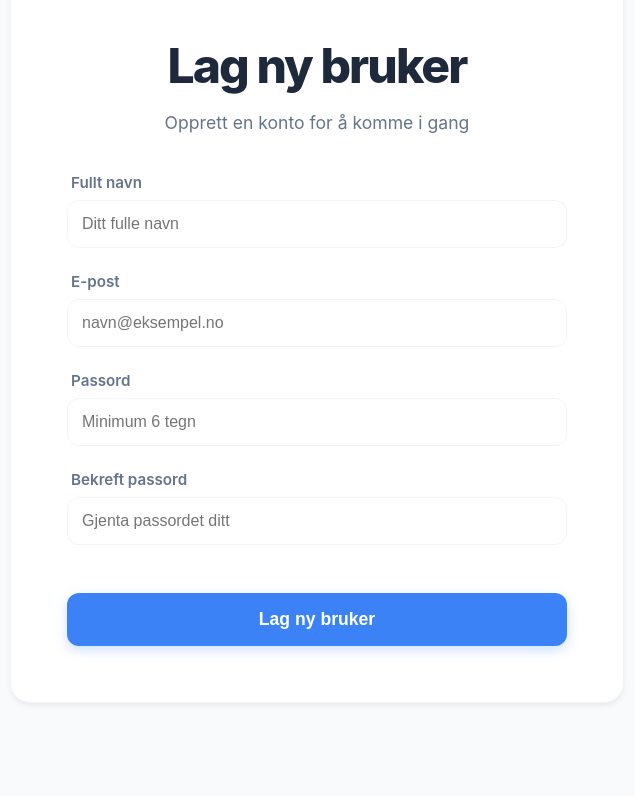
CreateUser Component › viser feilmelding hvis passordene ikke er like
Type "Test Bruker" into the field labelled "Fullt navn" at (317, 224), box top-left (67, 200), bottom-right (567, 248)
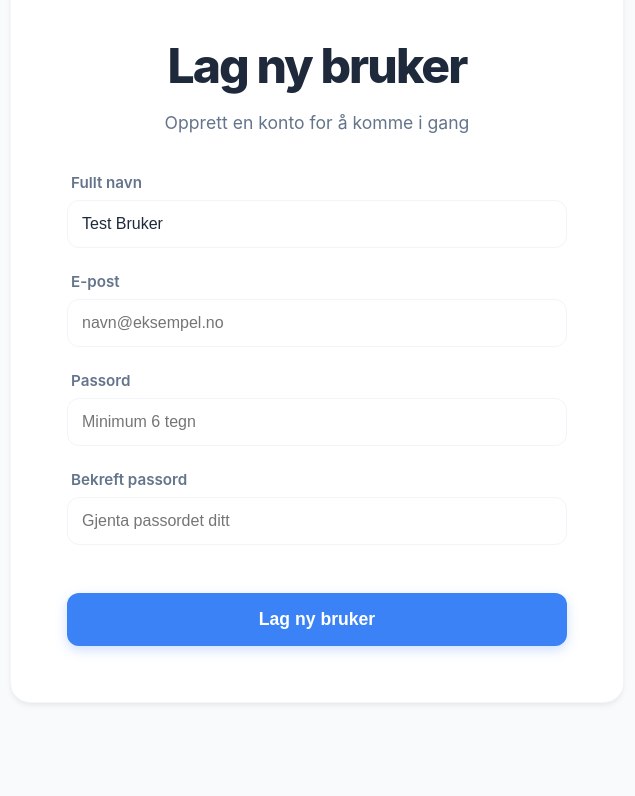
Type "test@test.no" into the field labelled "E-post" at (317, 323), box top-left (67, 299), bottom-right (567, 347)
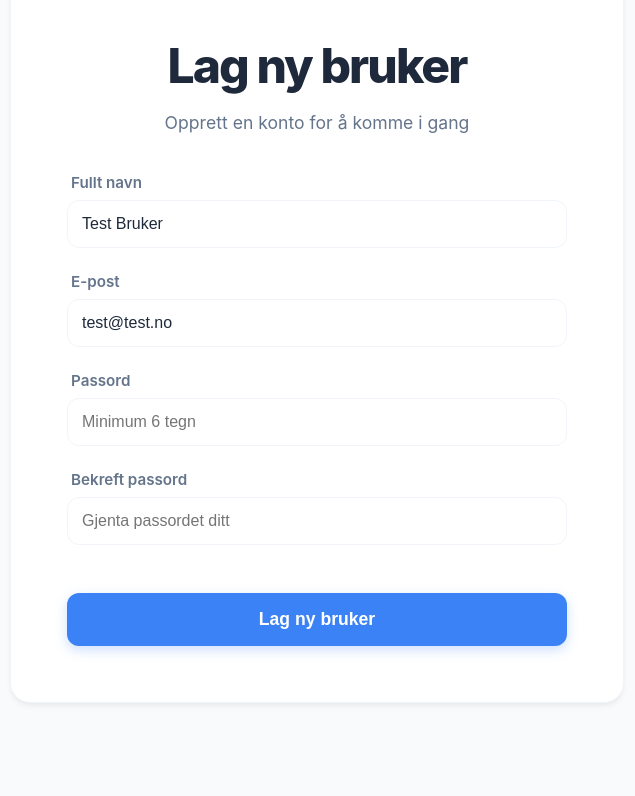
Type "passord123" into the password field labelled "Passord" at (317, 422), box top-left (67, 398), bottom-right (567, 446)
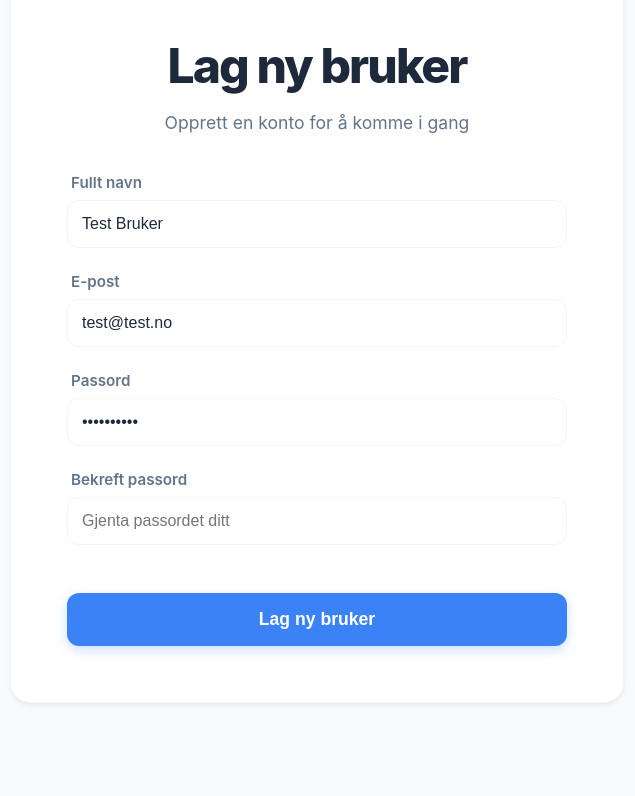
Type "uliktPassord" into the password field labelled "Bekreft passord" at (317, 521), box top-left (67, 497), bottom-right (567, 545)
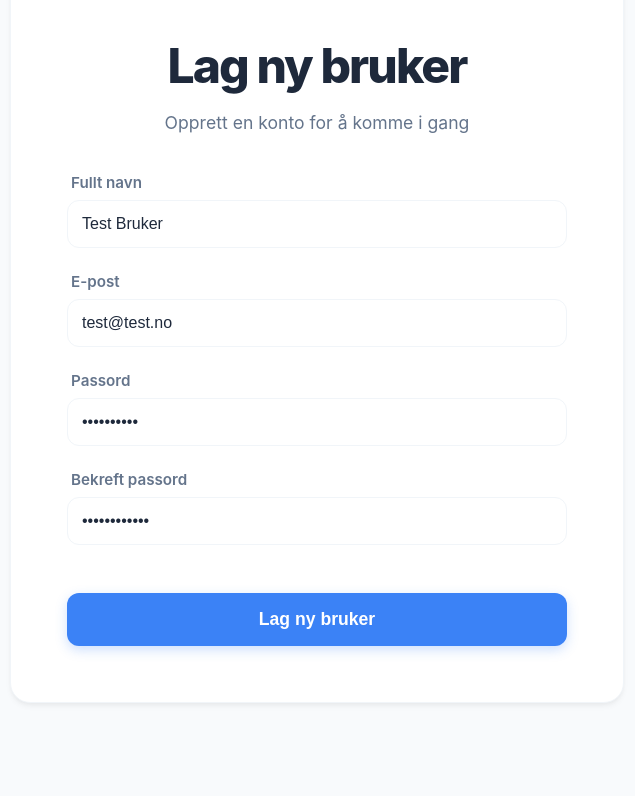
Click the button "Lag ny bruker" at (317, 620), box top-left (67, 593), bottom-right (567, 646)
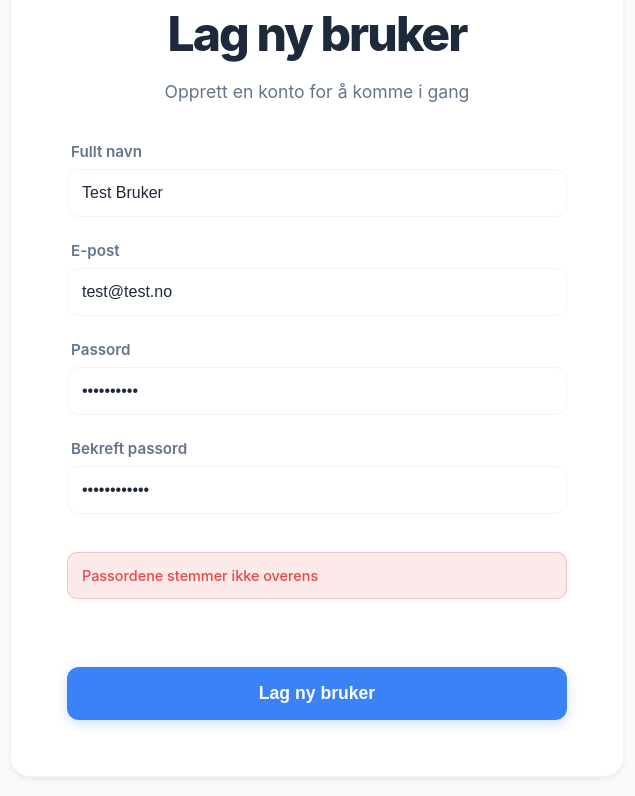
expect the text "Passordene stemmer ikke overens" is shown: met, box top-left (67, 552), bottom-right (567, 599)
